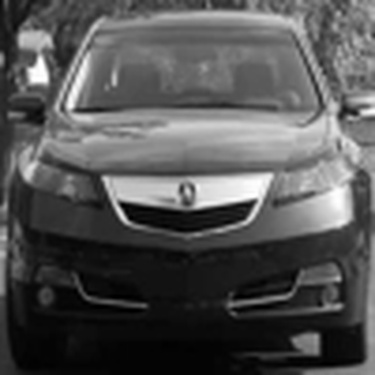car: (17, 10, 369, 362)
